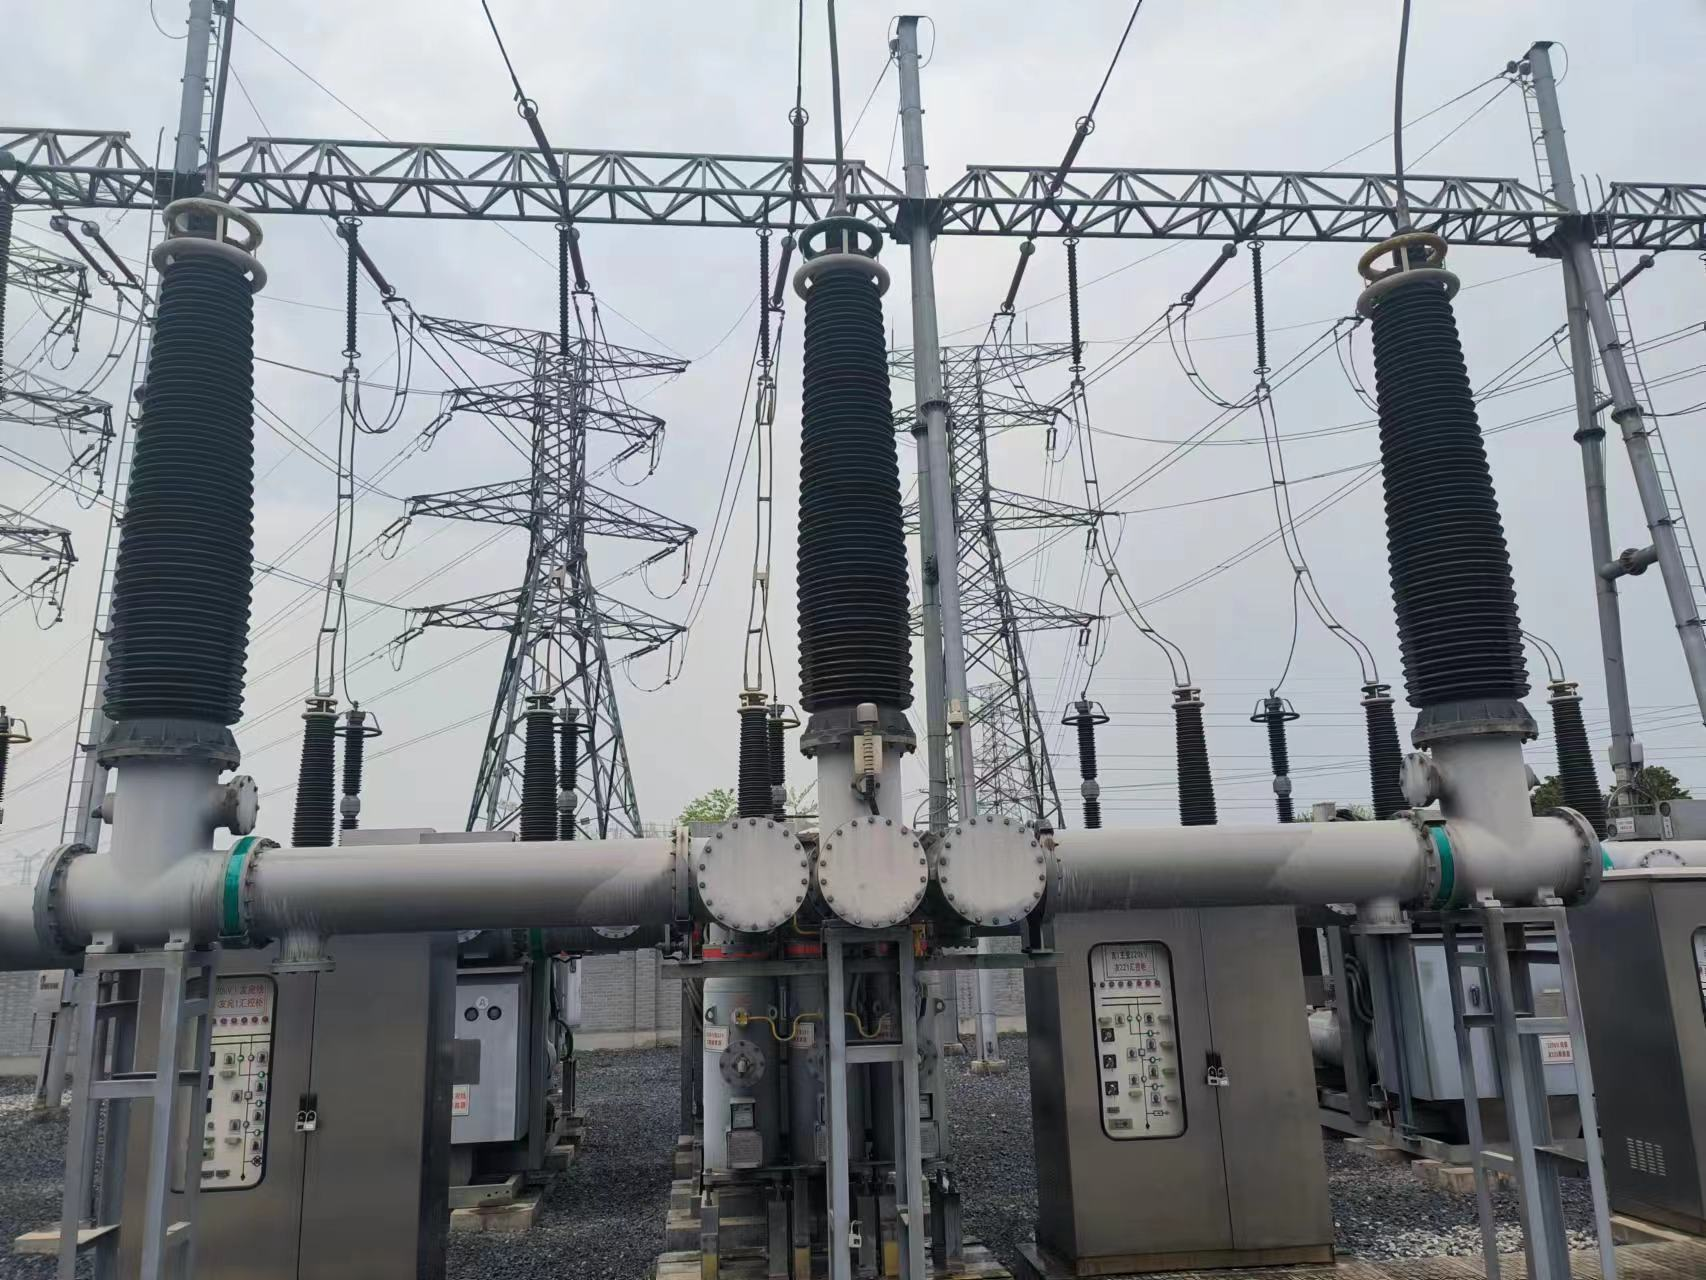Voltage transformer: (99, 194, 268, 726), (1351, 227, 1535, 706), (789, 215, 928, 711)
